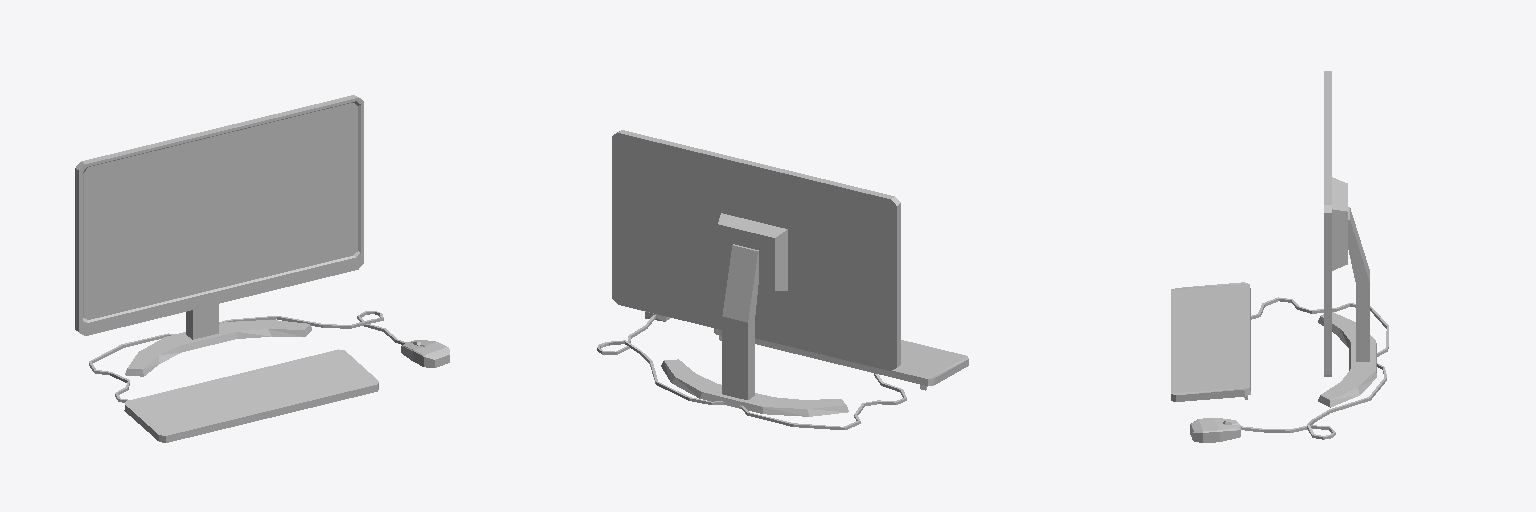
File: SM_Prop_Computer_Setup_02_OBJ.obj
3 views of the same model, side by side, from view 1: azimuth 30°, elevation 25°; view 2: azimuth 150°, elevation 25°; view 3: azimuth 270°, elevation 25° (orthographic).
Visible parts, largest first — view 1: SM_Prop_Computer_Setup_02; view 2: SM_Prop_Computer_Setup_02; view 3: SM_Prop_Computer_Setup_02.
Boxes of the visible parts, <box> form: SM_Prop_Computer_Setup_02: <box>75,95,449,442</box>; SM_Prop_Computer_Setup_02: <box>597,130,968,429</box>; SM_Prop_Computer_Setup_02: <box>1171,71,1388,442</box>.
Bounding box in the file's own units: 36.28 × 25.04 × 22.2.